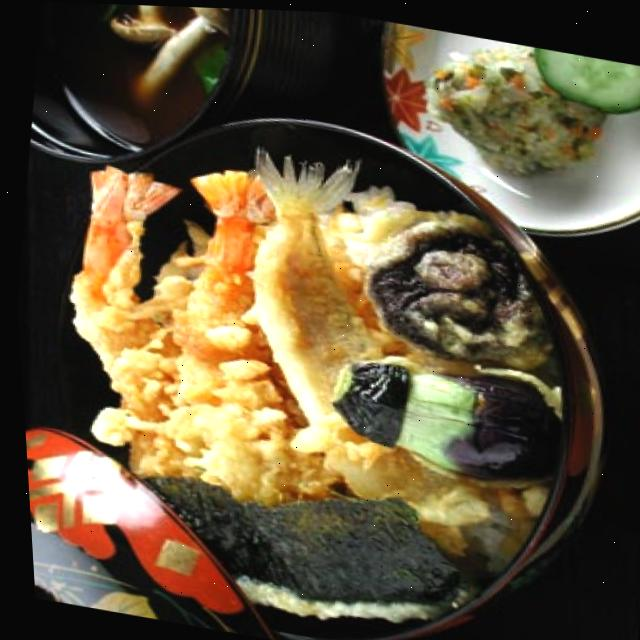熟制海鲜: (10, 198, 492, 640)
